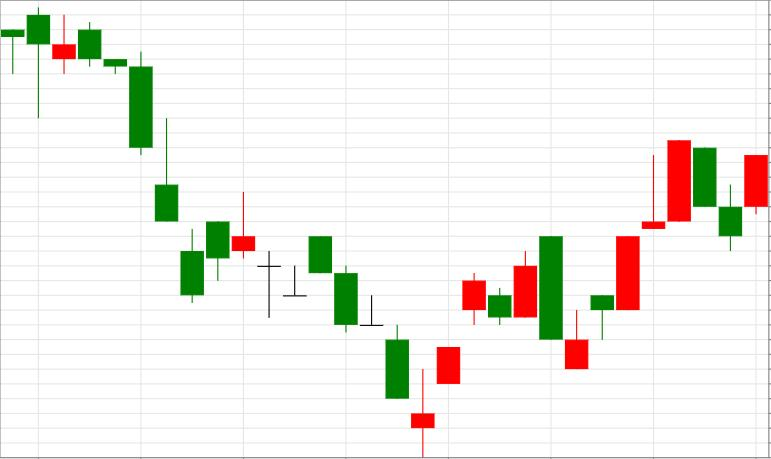morning_star_rise: (308, 236, 460, 457)
